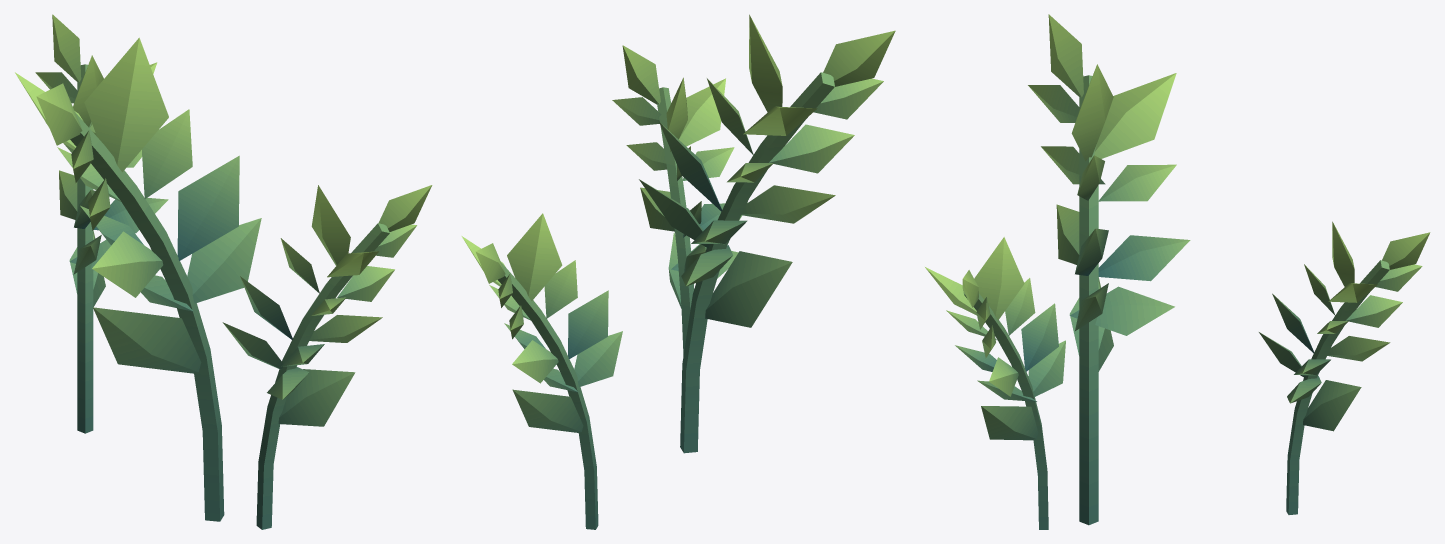
File: PL002_PlantA02.FBX
The picture shows the model from 3 angles, left to right: view 1: azimuth 30°, elevation 25°; view 2: azimuth 150°, elevation 25°; view 3: azimuth 270°, elevation 25°; orthographic projection. The views are drawn at different scales.
Visible parts, largest first — view 1: PL002_PlantA02; view 2: PL002_PlantA02; view 3: PL002_PlantA02.
Part boxes in pixels (box(x1,y1,x2,y2)): PL002_PlantA02: box(15, 14, 432, 529); PL002_PlantA02: box(461, 14, 895, 529); PL002_PlantA02: box(925, 14, 1430, 529).
Size of the model in its own units: 215 by 293 by 314.
1 material, 1 textured.
